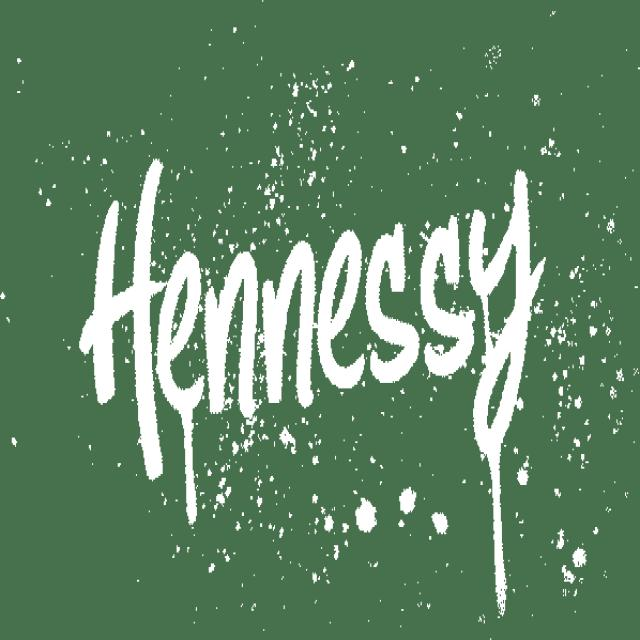Background Image: (1, 2, 637, 636)
Text Elements: (79, 153, 543, 533)
